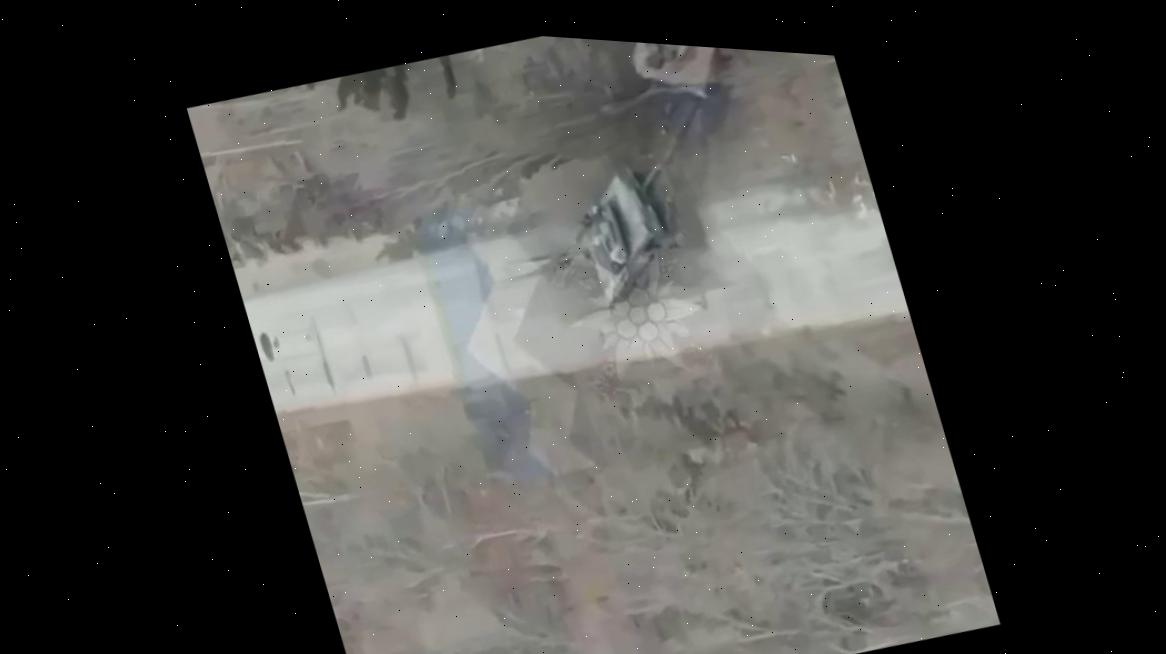tank: (481, 149, 686, 335)
